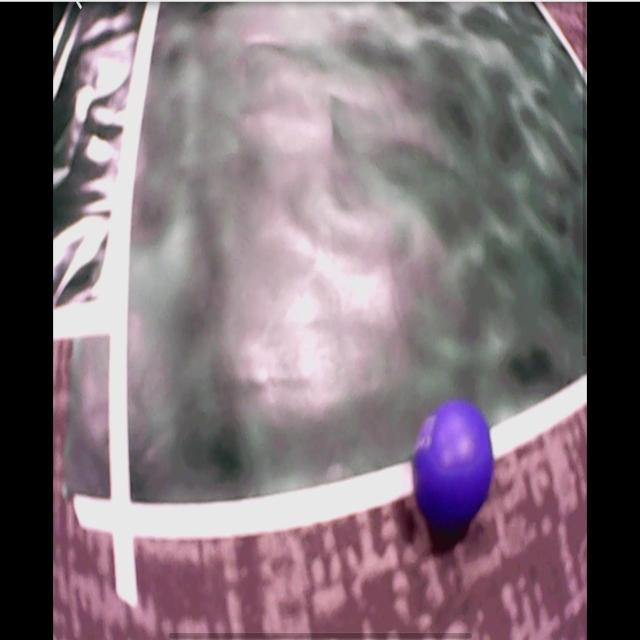ball: (415, 400, 495, 530)
